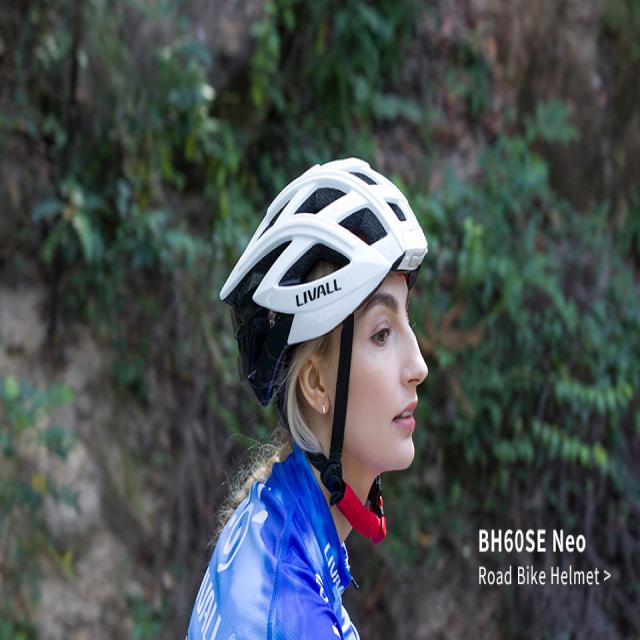helmet: (213, 151, 442, 408)
